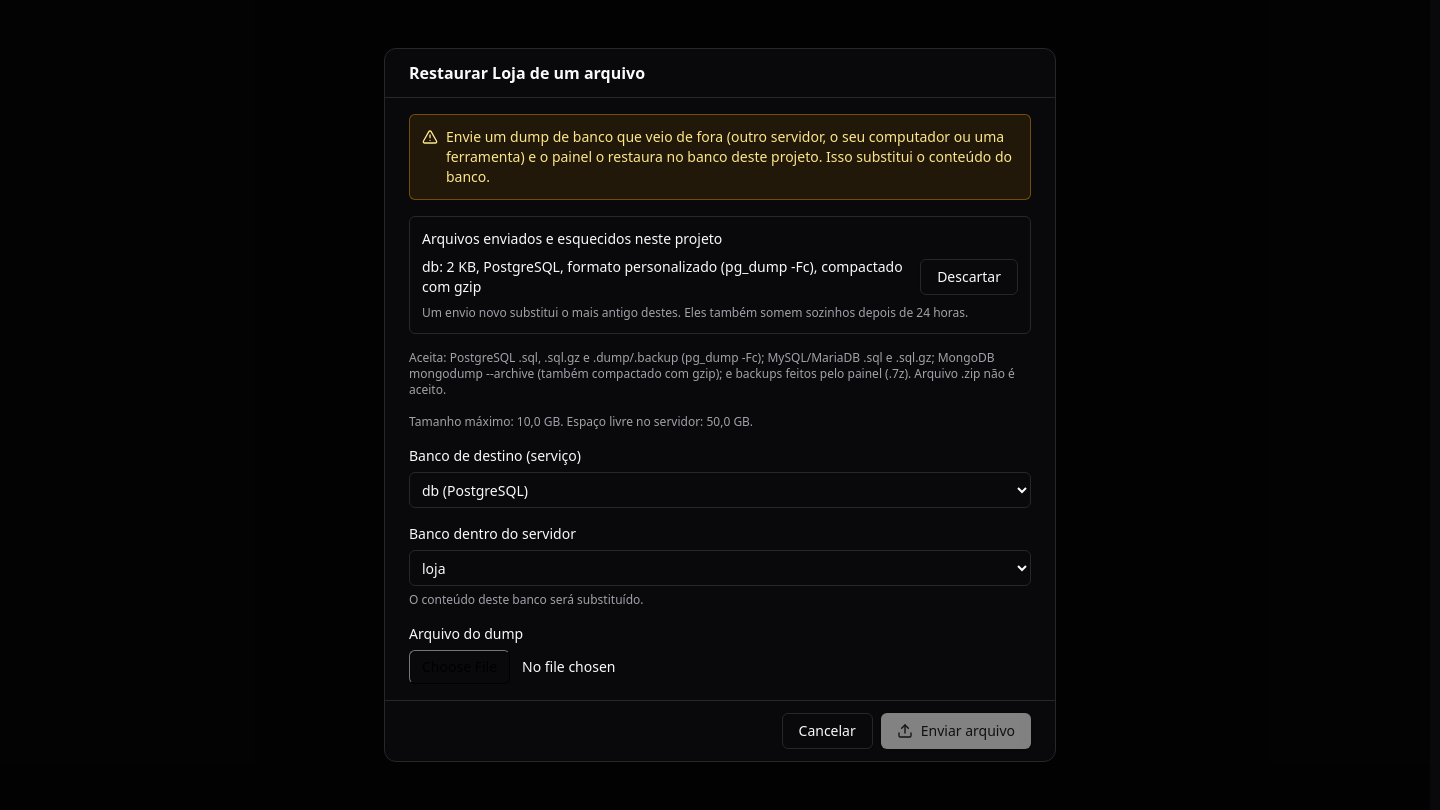
Test: UploadRestoreDialog: formulário › lista arquivos esquecidos de envios anteriores e deixa descartá-los
Expected: the element with test id "upload-idle" shows "db", [422,257,903,296]
Click the button with test id "upload-idle-discard-old1" at {"x": 969, "y": 277}, box [920,259,1018,295]
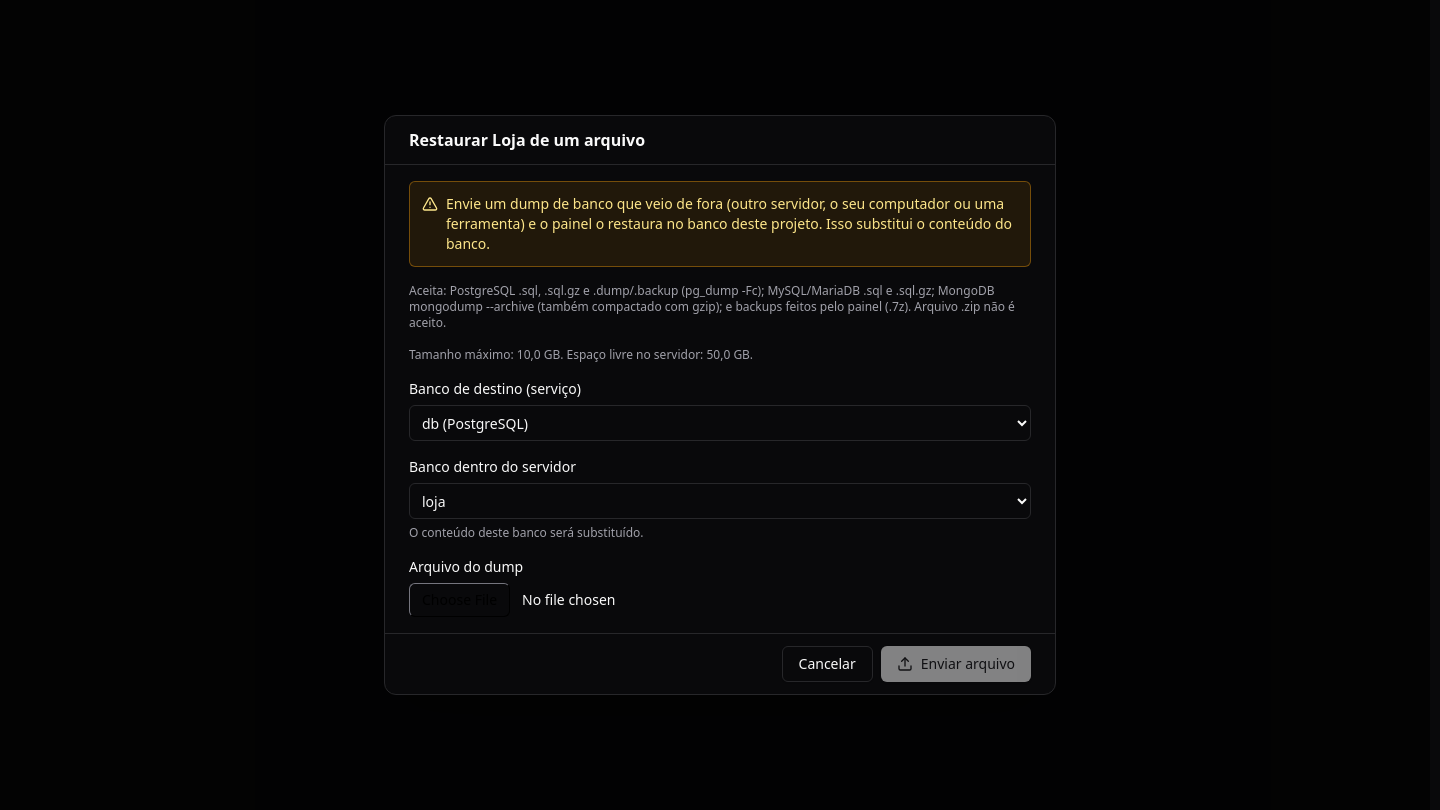
Now the element with test id "upload-idle" is gone
